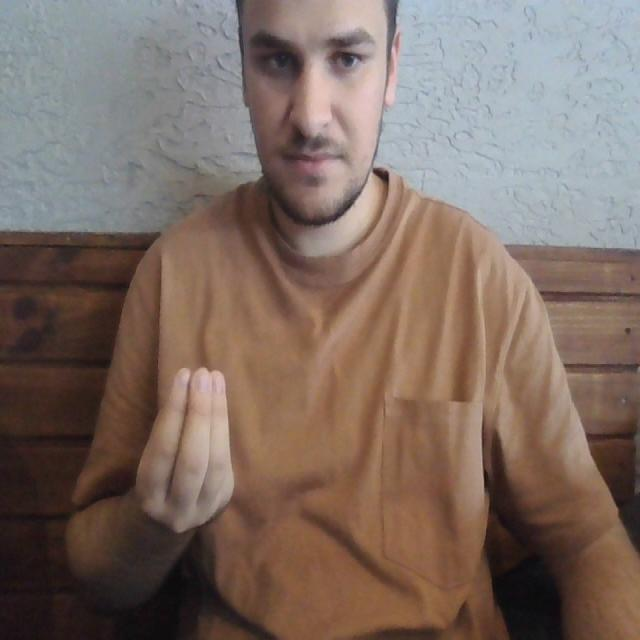iyi: (137, 355, 238, 541)
